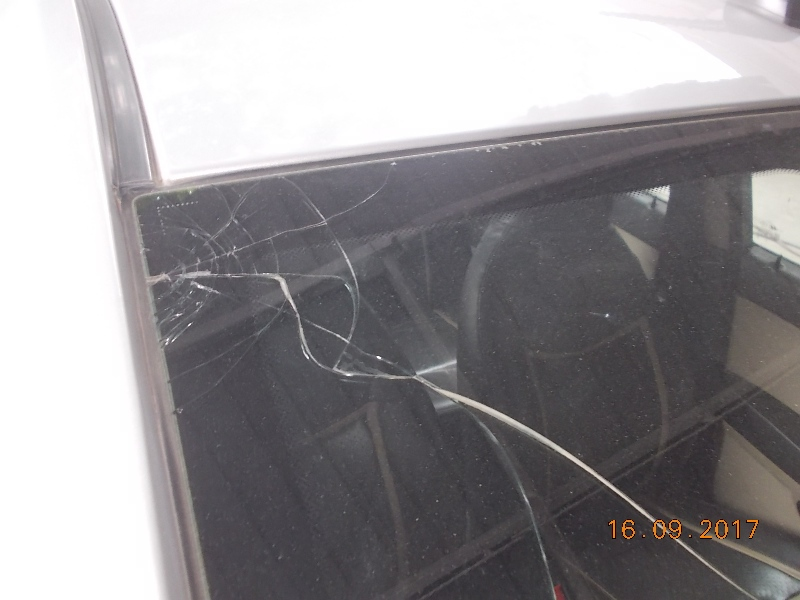Shatter: (168, 207, 399, 372)
